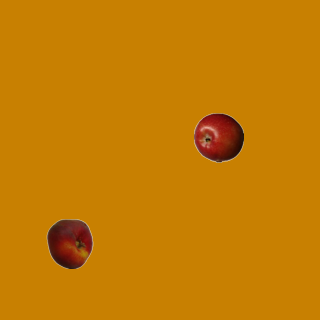Apple Braeburn: (193, 112, 243, 162)
Nectarine Flat: (44, 218, 94, 268)
